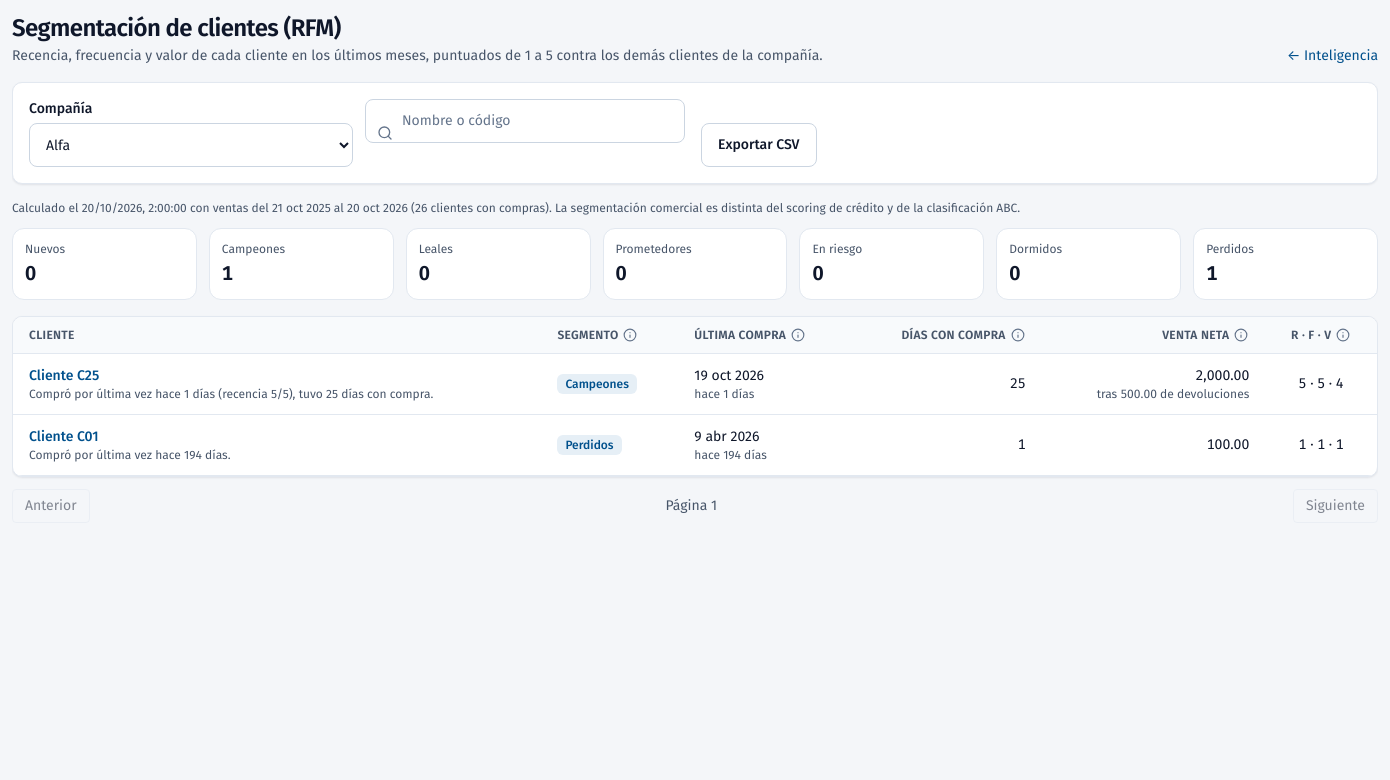
Test: inteligencia comercial › la segmentación lista los clientes con su explicación y filtra por segmento
The image size is (1390, 780).
Expected: the table named "Clientes por segmento" shows "Cliente C25", [29,367,99,384]
Expected: the table named "Clientes por segmento" shows "Compró por última vez hace 1 días", [29,387,433,401]
Click the button "Perdidos 1" at (1286, 264), box [1193,228,1378,300]
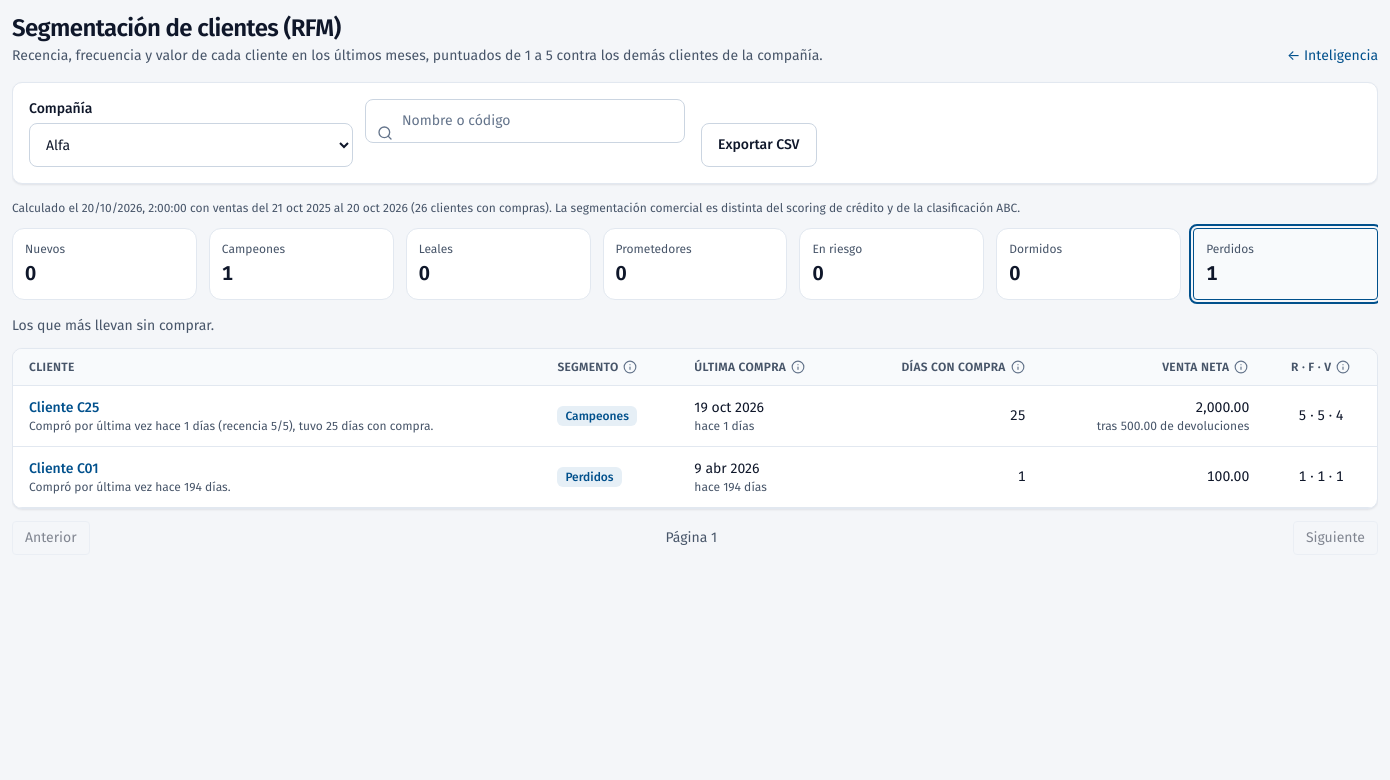
Expected: the text "Los que más llevan sin comprar." is shown, [12,317,214,334]
